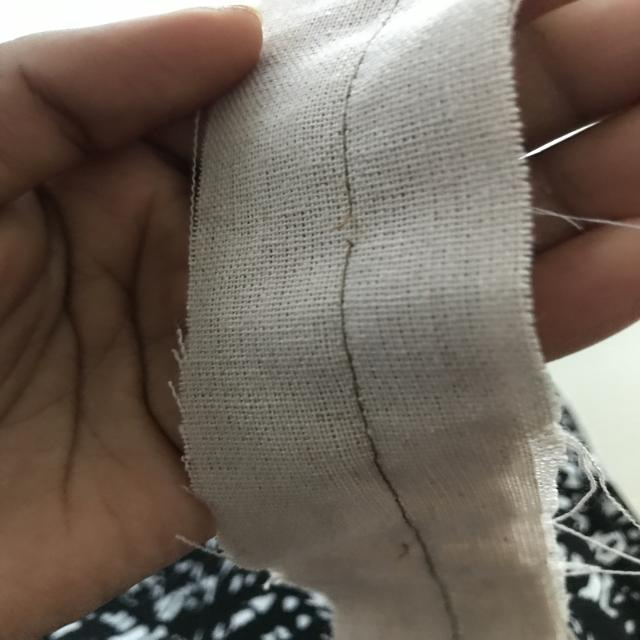broken: (326, 208, 383, 257)
